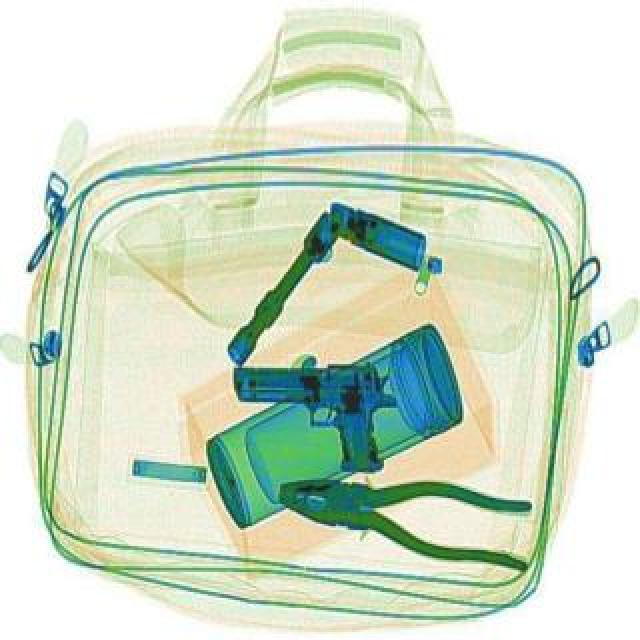gun: (228, 356, 400, 472)
wrench: (270, 456, 538, 568)
